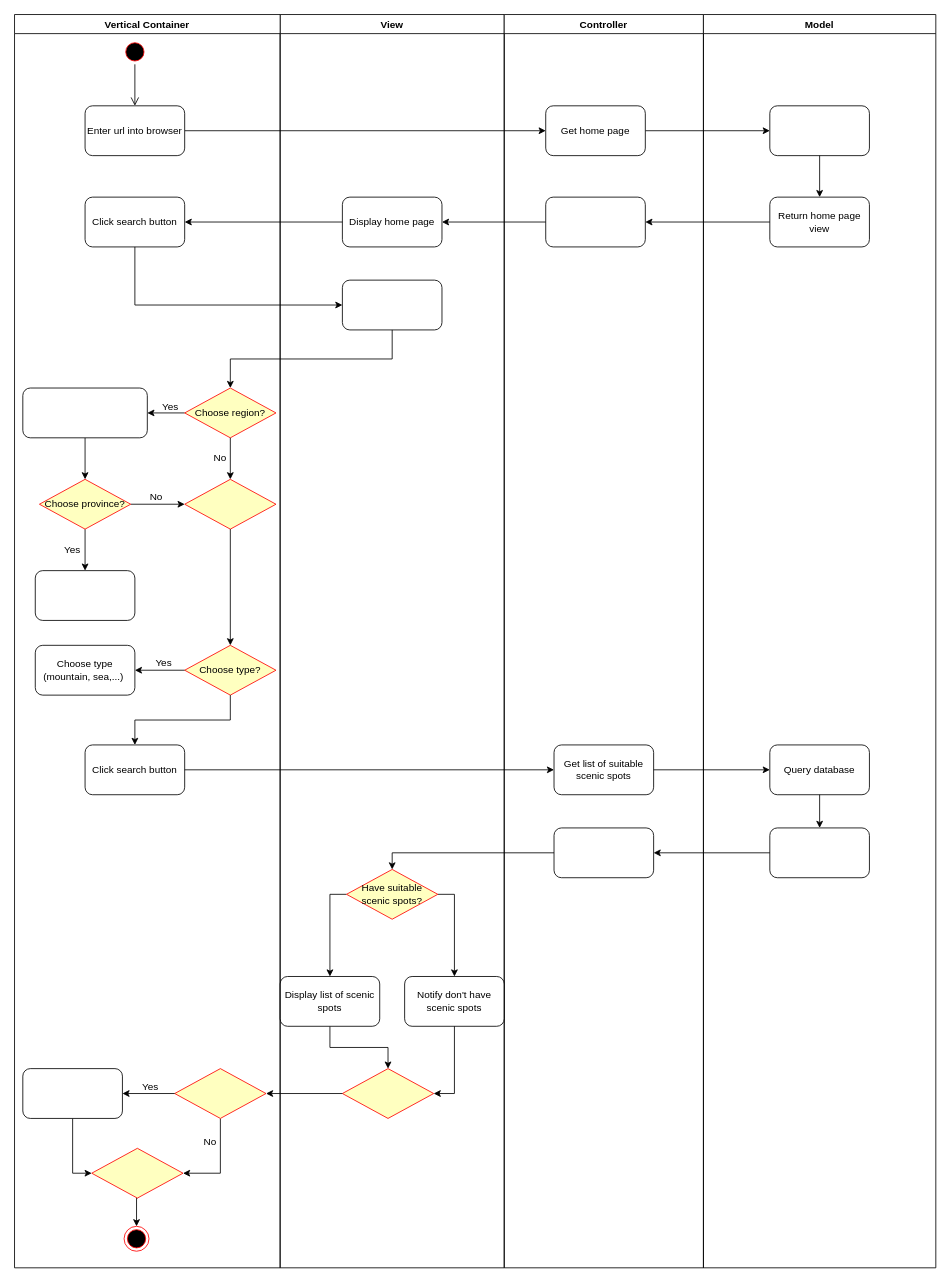
Some shapes in this 950 by 1282 pixel diagram are drawn without their labels. The centre of each missing label's shape, as x and y in pixels:
"Choose province" belongs at (x=84, y=595).
"Choose region (North, Southern, central)" belongs at (x=84, y=412).
"Click on the scenic spots" belongs at (x=72, y=1093).
"Query database to get home page data" belongs at (x=819, y=130).
"Response request from user" belongs at (x=595, y=221).
"Return list of suitable scenic spots" belongs at (x=603, y=852).
"Return results" belongs at (x=819, y=852).
"Show search mode" belongs at (x=392, y=304).
"Want to see detail?" belongs at (x=220, y=1093).
